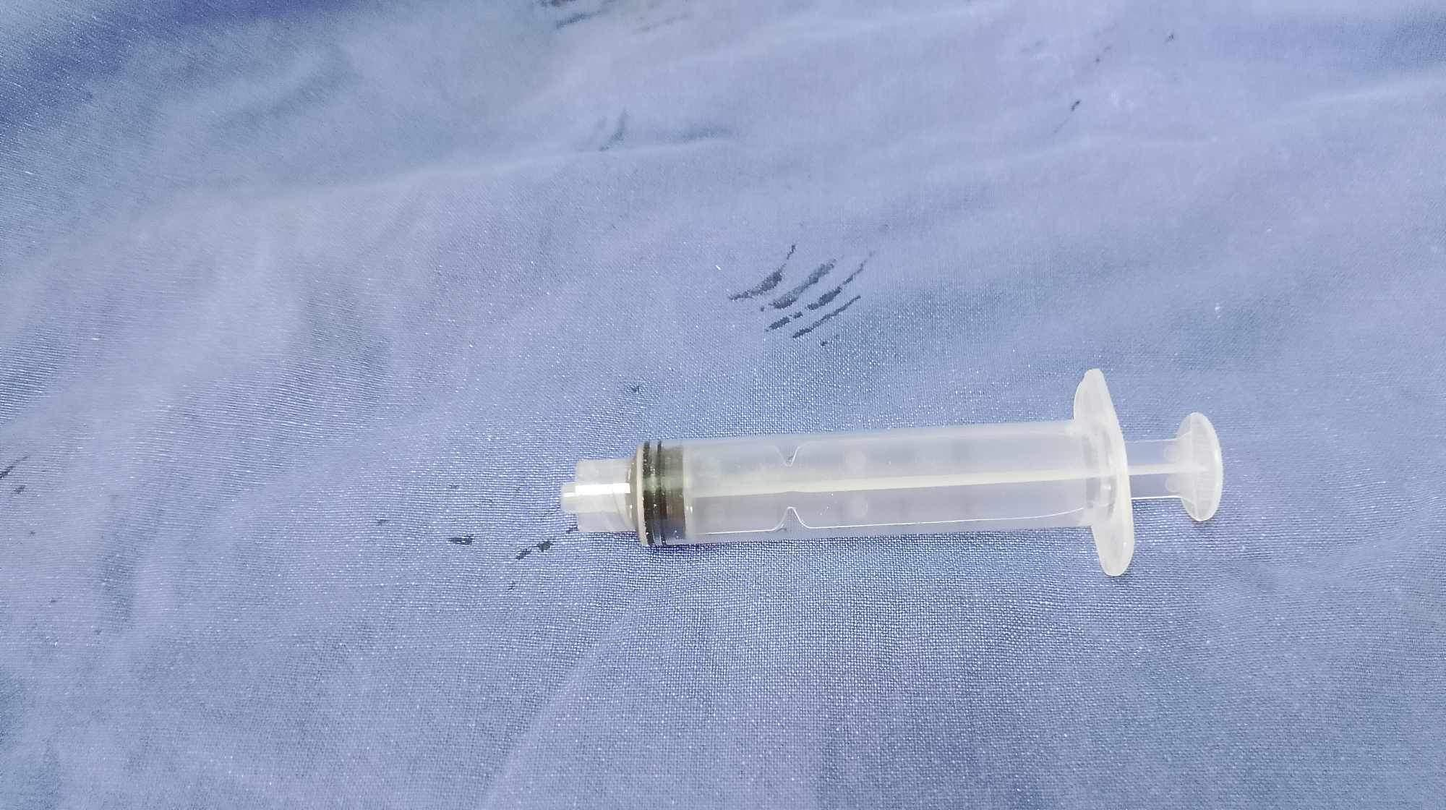General: (5, 4, 1439, 805)
Sharps: (559, 367, 1225, 577)
